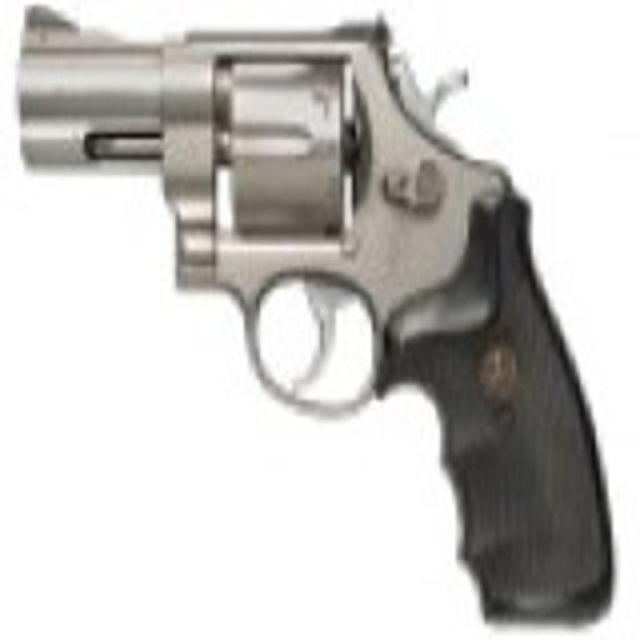pistol: (31, 5, 611, 624)
